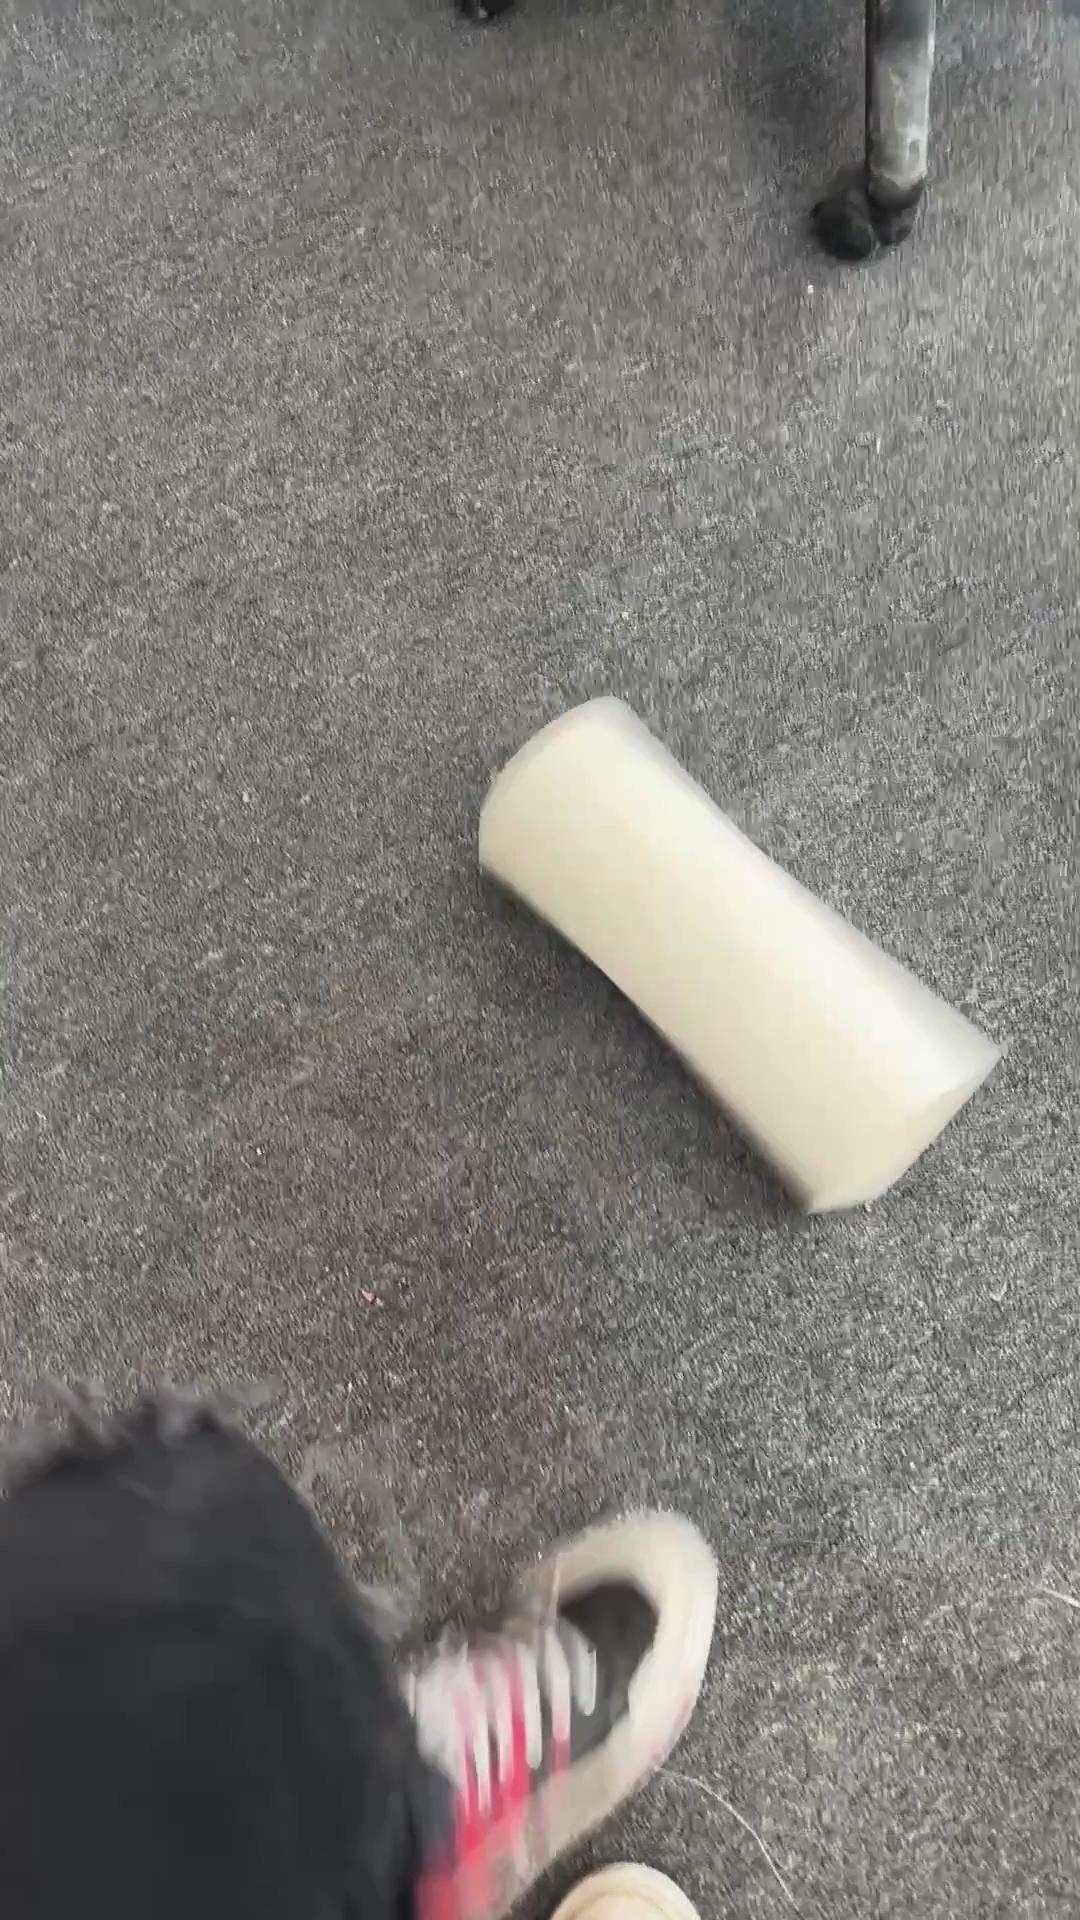CORAL: (474, 691, 1004, 1217)
